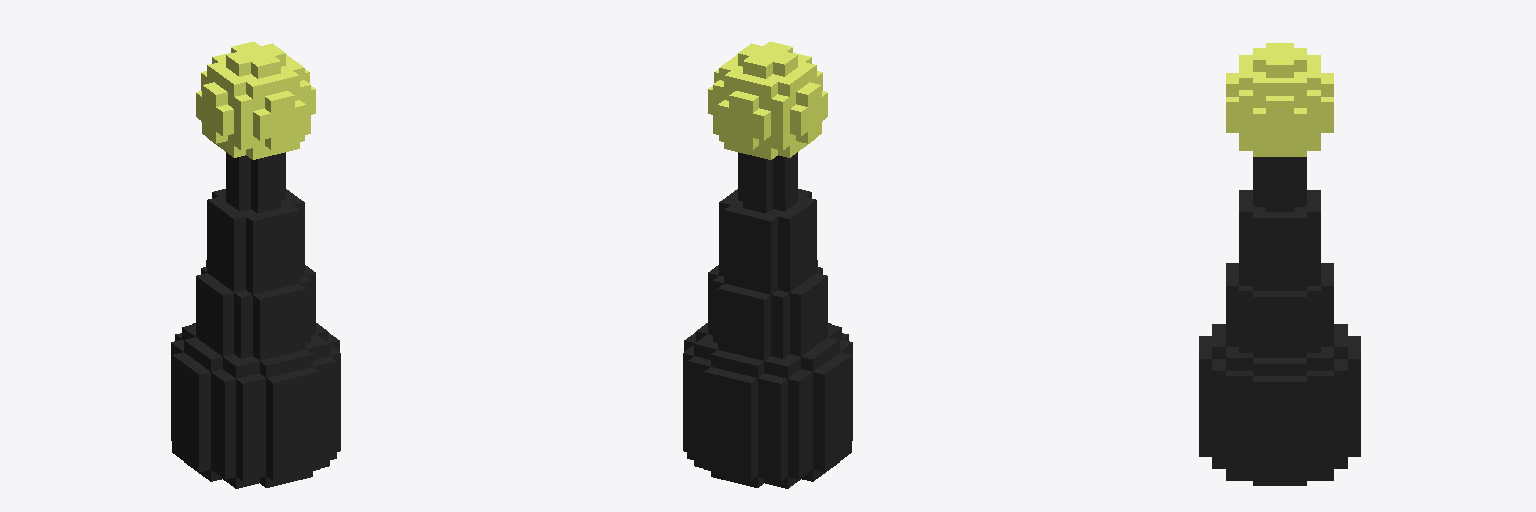
3 views of the same model, side by side, from view 1: azimuth 30°, elevation 25°; view 2: azimuth 150°, elevation 25°; view 3: azimuth 270°, elevation 25° (orthographic).
Parts seen in each view (by area): view 1: object 1; view 2: object 1; view 3: object 1.
Part boxes in pixels (x1,y1,x2,y2): object 1: (171,42,340,488); object 1: (683,42,852,488); object 1: (1199,43,1360,485).
Bounding box in the file's own units: 1.2 × 3.3 × 1.2.
Materials: 1 (1 with a texture image).